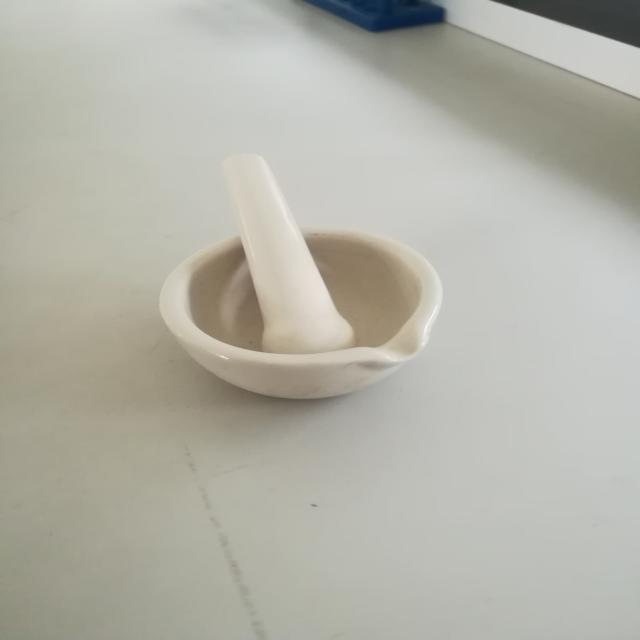Porcelain_Mortar Pestle: (140, 106, 492, 434)
